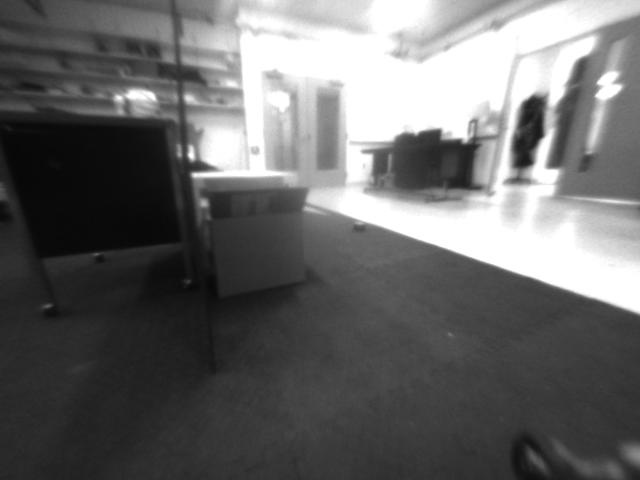dogtoy: (341, 211, 373, 234)
